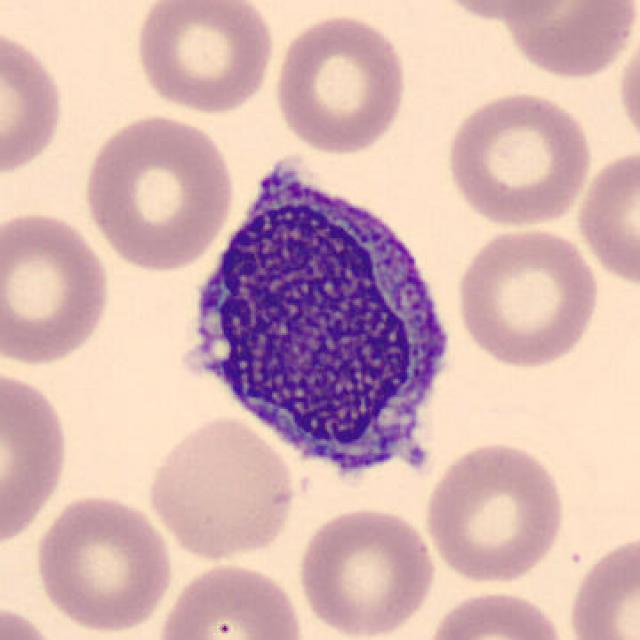Monocyte: (164, 150, 466, 499)
RBC: (78, 110, 236, 274), (144, 412, 299, 562), (421, 437, 569, 587), (453, 222, 603, 370), (442, 86, 596, 230), (30, 490, 176, 635), (270, 10, 411, 157), (293, 502, 439, 640), (0, 206, 116, 368), (129, 0, 277, 116), (0, 363, 73, 554), (153, 559, 307, 640), (500, 0, 638, 81), (0, 23, 68, 182), (572, 143, 640, 289), (563, 529, 640, 640), (421, 585, 571, 640), (613, 23, 640, 155), (425, 0, 578, 23), (0, 599, 64, 640)
